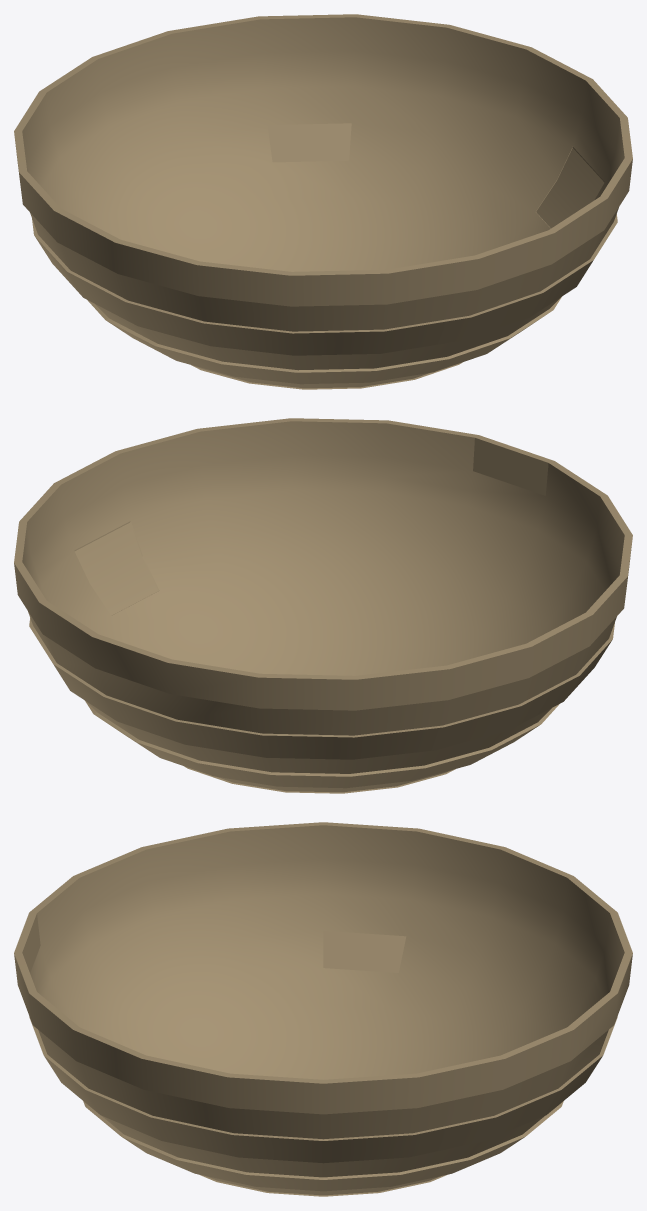
The model's file is Bowl.fbx.
3 views of the same model, one above another, from view 1: azimuth 30°, elevation 25°; view 2: azimuth 150°, elevation 25°; view 3: azimuth 270°, elevation 25° (orthographic).
Parts seen in each view (by area): view 1: pSphere1; view 2: pSphere1; view 3: pSphere1.
Part boxes in pixels (x1,y1,x2,y2): pSphere1: (14,14,632,389); pSphere1: (14,418,632,793); pSphere1: (14,822,632,1196).
Size of the model in its own units: 2 by 0.7373 by 2.
